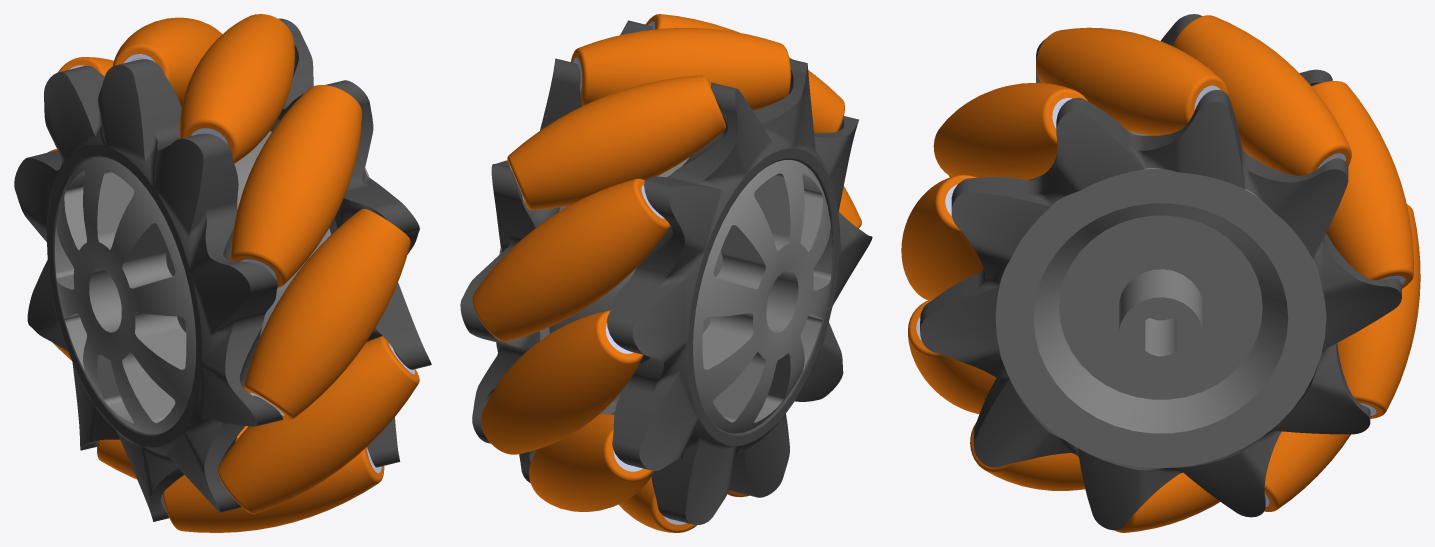
Rendered from Mecanum Wheel Right.obj.
3 views of the same model, side by side, from view 1: azimuth 30°, elevation 25°; view 2: azimuth 150°, elevation 25°; view 3: azimuth 270°, elevation 25° (orthographic).
Visible parts, largest first — view 1: Mecanum_Wheel_Right; view 2: Mecanum_Wheel_Right; view 3: Mecanum_Wheel_Right.
Boxes of the visible parts, x1=… form: Mecanum_Wheel_Right: x1=14, y1=14, x2=431, y2=532; Mecanum_Wheel_Right: x1=460, y1=14, x2=872, y2=532; Mecanum_Wheel_Right: x1=901, y1=14, x2=1420, y2=532.
Bounding box in the file's own units: 33.61 × 61.31 × 61.19.
